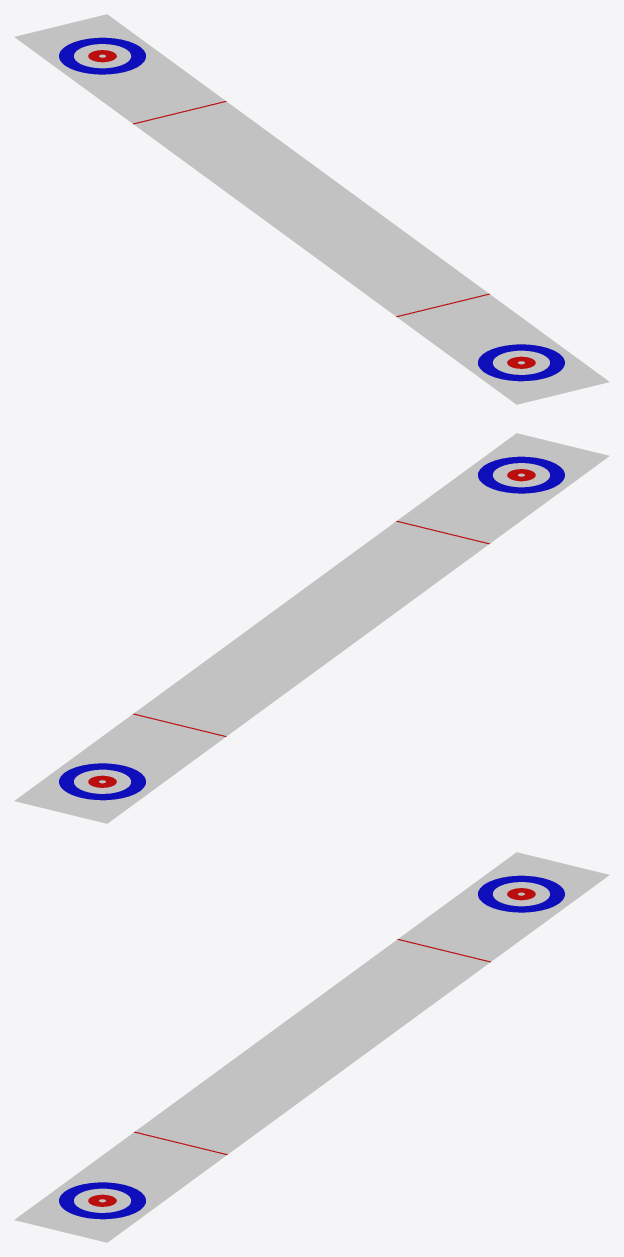
The model's file is arenaWithouTex.dae.
The picture shows the model from 3 angles, top to bottom: view 1: azimuth 30°, elevation 25°; view 2: azimuth 150°, elevation 25°; view 3: azimuth 330°, elevation 25°; orthographic projection.
Parts seen in each view (by area): view 1: Plane; view 2: Plane; view 3: Plane.
Boxes of the visible parts, x1,y1,x2,y2 form: Plane: (14, 14, 609, 404); Plane: (14, 433, 609, 823); Plane: (14, 852, 609, 1242).
Size of the model in its own units: 4.5 by 42 by 0.0016.
